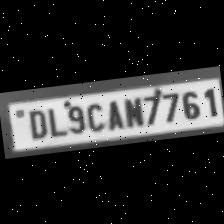1: (198, 86, 221, 118)
6: (176, 86, 202, 120)
7: (139, 90, 163, 126), (155, 89, 180, 123)
9: (62, 100, 86, 134)
A: (102, 96, 124, 132)
C: (82, 98, 107, 132)
D: (22, 106, 48, 140)
L: (44, 103, 66, 137)
N: (119, 92, 144, 128)
